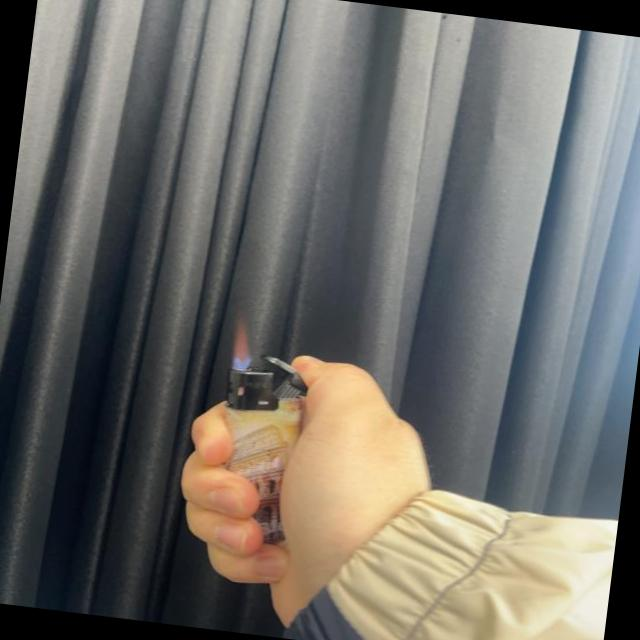Fire: (225, 316, 258, 370)
